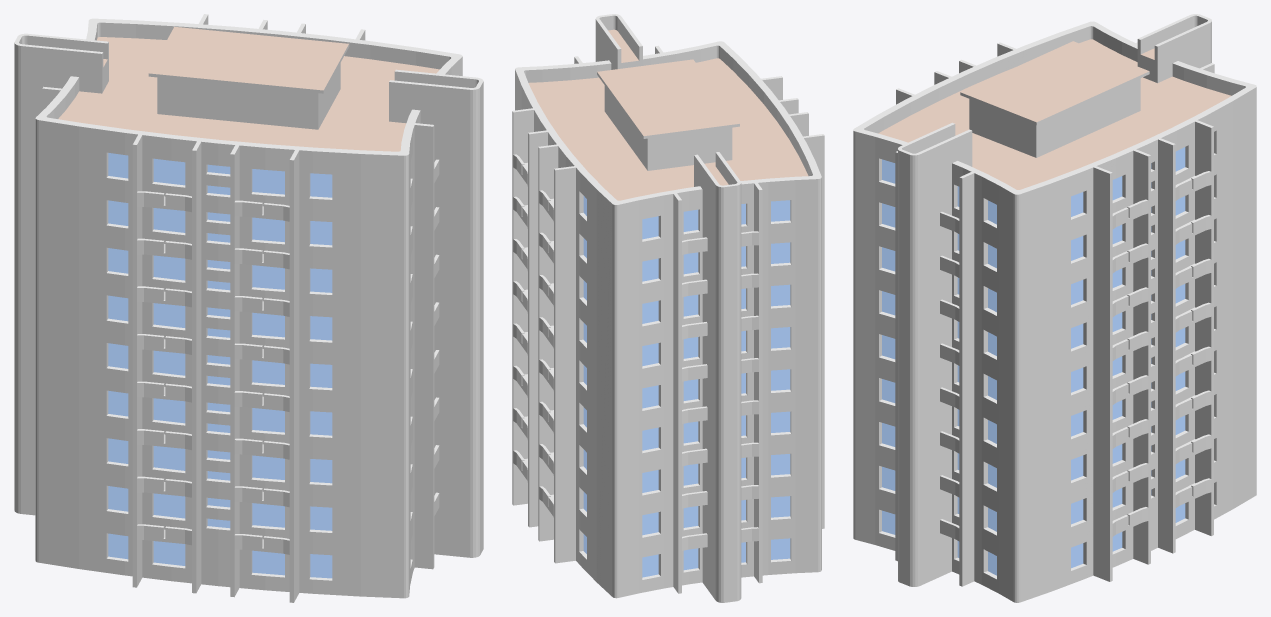
Rendered from zhandosova-saina.glb.
3 views of the same model, side by side, from view 1: azimuth 30°, elevation 25°; view 2: azimuth 150°, elevation 25°; view 3: azimuth 270°, elevation 25° (orthographic). The views are drawn at different scales.
Visible parts, largest first — view 1: wall, walls, window, roof; view 2: wall, walls, roof, window; view 3: wall, walls, roof, window.
Part boxes in pixels (x1,y1,x2,y2): wall: (14,15,483,602); walls: (14,14,483,602); window: (108,153,332,578); roof: (58,26,439,151); wall: (513,15,824,602); walls: (512,14,824,593); roof: (528,29,808,200); window: (583,196,790,577); wall: (853,15,1256,602); walls: (853,14,1256,586); roof: (878,39,1231,189); window: (882,147,1185,575).
Size of the model in its own units: 25.39 by 29.7 by 24.99.
